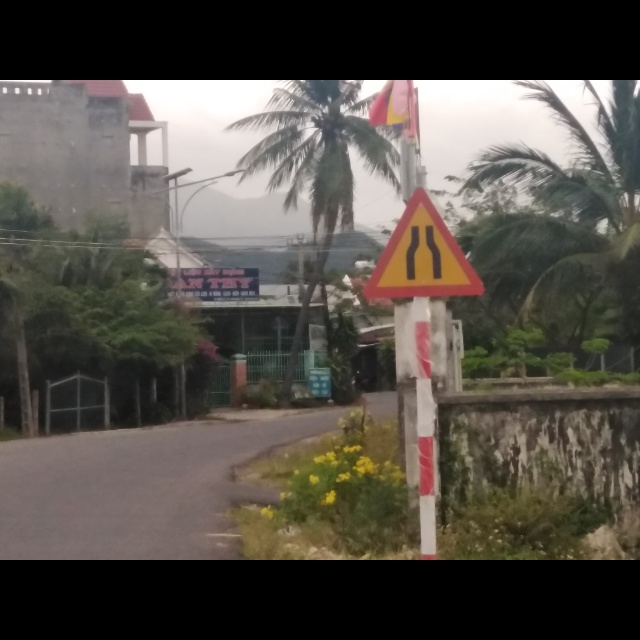Đường bị hẹp cả hai bên: (364, 188, 480, 299)
